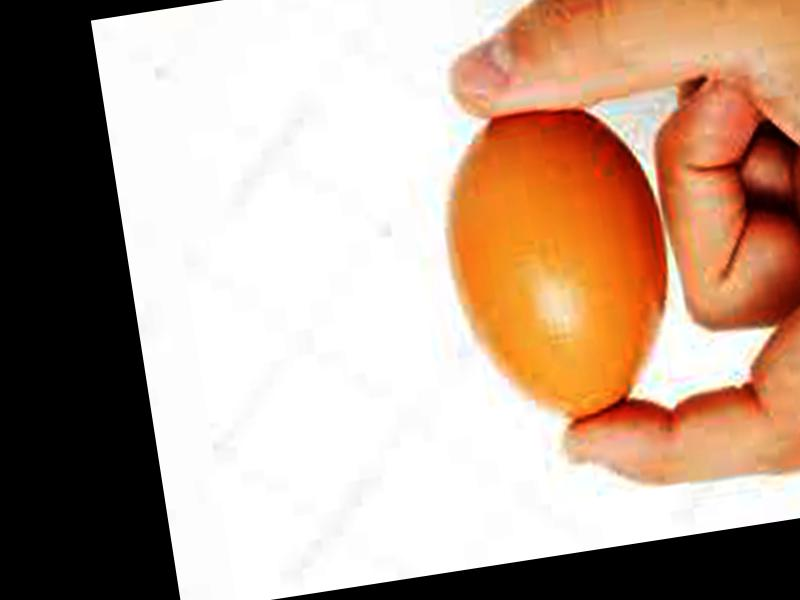Eggs: (427, 93, 691, 441)
